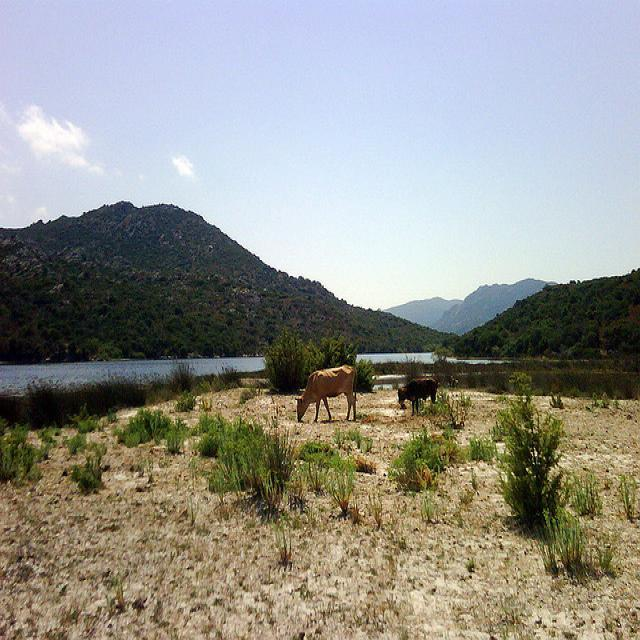cow: (292, 364, 357, 423), (396, 375, 440, 415)
